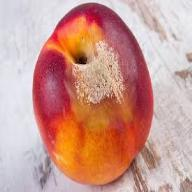apple: (28, 4, 156, 182)
